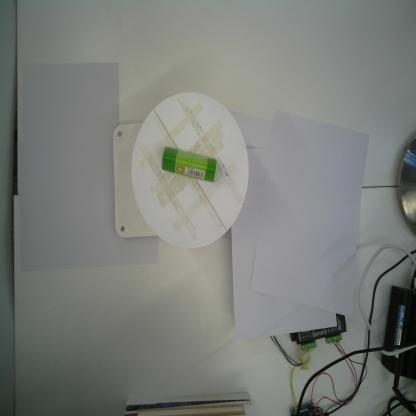Stationery: (162, 147, 217, 183)
